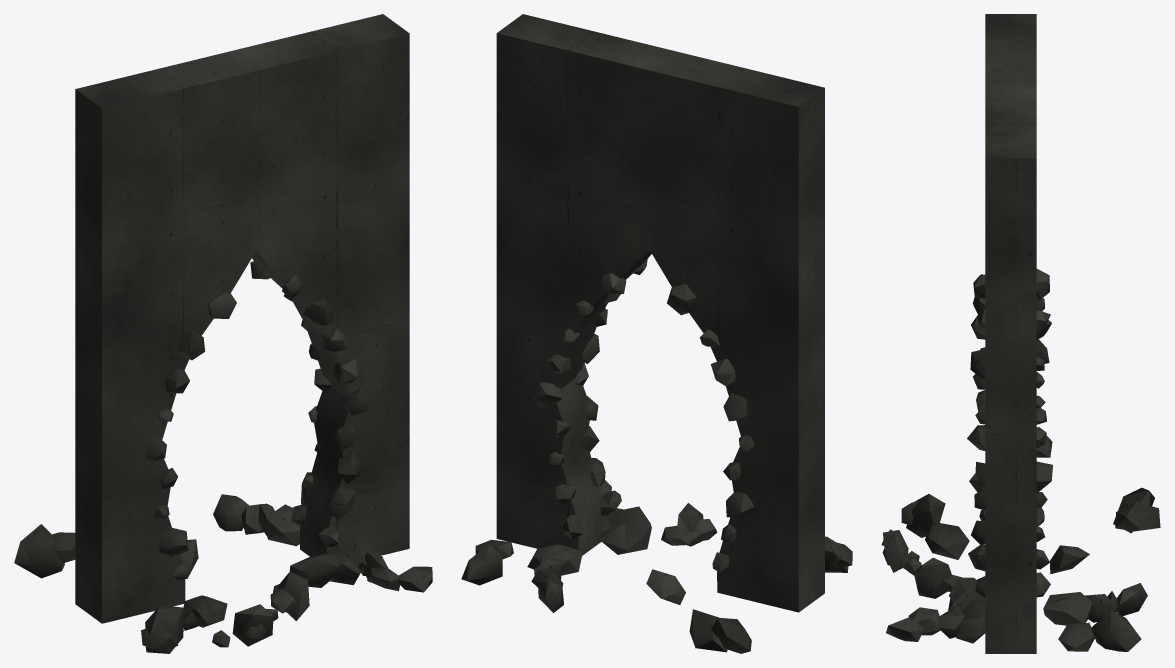
The model's file is Wall_Breach.gltf.
3 views of the same model, side by side, from view 1: azimuth 30°, elevation 25°; view 2: azimuth 150°, elevation 25°; view 3: azimuth 270°, elevation 25° (orthographic). The views are drawn at different scales.
Visible parts, largest first — view 1: Wall_Breach_Wall, Wall_Breach_Rubble; view 2: Wall_Breach_Wall, Wall_Breach_Rubble; view 3: Wall_Breach_Wall, Wall_Breach_Rubble.
Part boxes in pixels (left/top/right/bottom): Wall_Breach_Wall: left=75, top=14, right=409, bottom=623; Wall_Breach_Rubble: left=14, top=261, right=432, bottom=653; Wall_Breach_Wall: left=496, top=14, right=824, bottom=612; Wall_Breach_Rubble: left=461, top=259, right=852, bottom=653; Wall_Breach_Wall: left=985, top=14, right=1036, bottom=653; Wall_Breach_Rubble: left=881, top=269, right=1160, bottom=651.
Size of what is drawn, in the model's own units: 2.05 by 3.29 by 1.63.
1 material, 1 textured.
